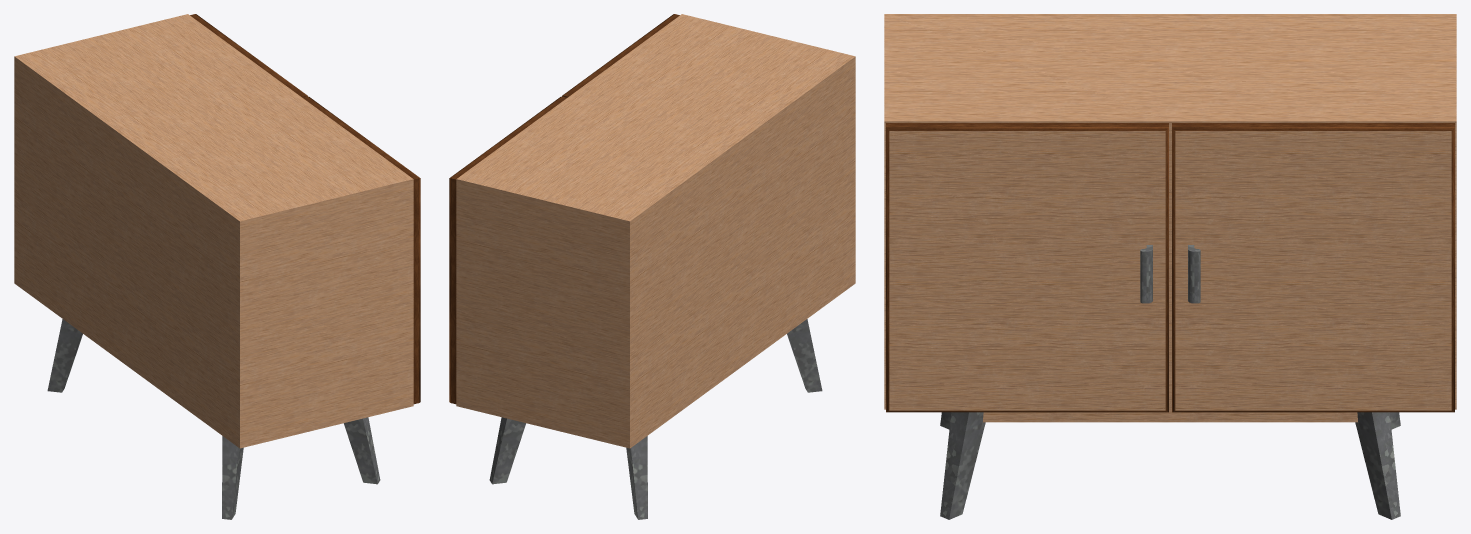
The model's file is komoda.fbx.
The picture shows the model from 3 angles, left to right: view 1: azimuth 30°, elevation 25°; view 2: azimuth 150°, elevation 25°; view 3: azimuth 270°, elevation 25°; orthographic projection. The views are drawn at different scales.
Parts seen in each view (by area): view 1: komoda_02, komoda_02.002, komoda_02.001; view 2: komoda_02, komoda_02.002, komoda_02.001; view 3: komoda_02, komoda_02.001, komoda_02.002.
Part boxes in pixels (x1,y1,x2,y2): komoda_02: (14,14,413,448); komoda_02.002: (47,319,380,519); komoda_02.001: (190,14,420,404); komoda_02: (456,14,855,448); komoda_02.002: (489,319,822,519); komoda_02.001: (449,14,679,404); komoda_02: (884,14,1456,422); komoda_02.001: (886,123,1454,412); komoda_02.002: (940,245,1400,519).
Size of the model in its own units: 1436 by 2259 by 2904.
3 materials, 3 textured.
